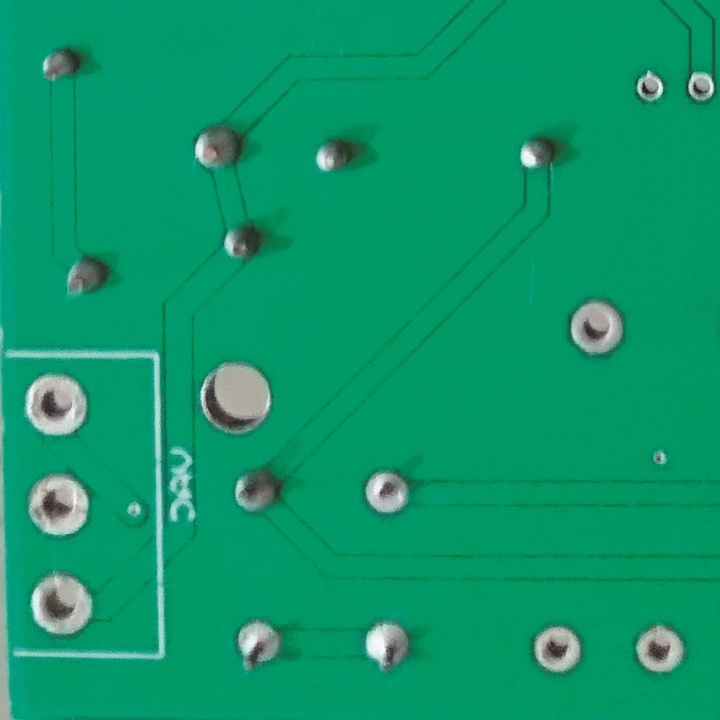F: (28, 571, 98, 640), (23, 372, 90, 442), (26, 472, 89, 536), (566, 295, 628, 360), (629, 620, 688, 681), (527, 621, 586, 677), (361, 468, 416, 523), (233, 619, 287, 675), (364, 618, 415, 677), (685, 69, 720, 104), (635, 69, 666, 103)
